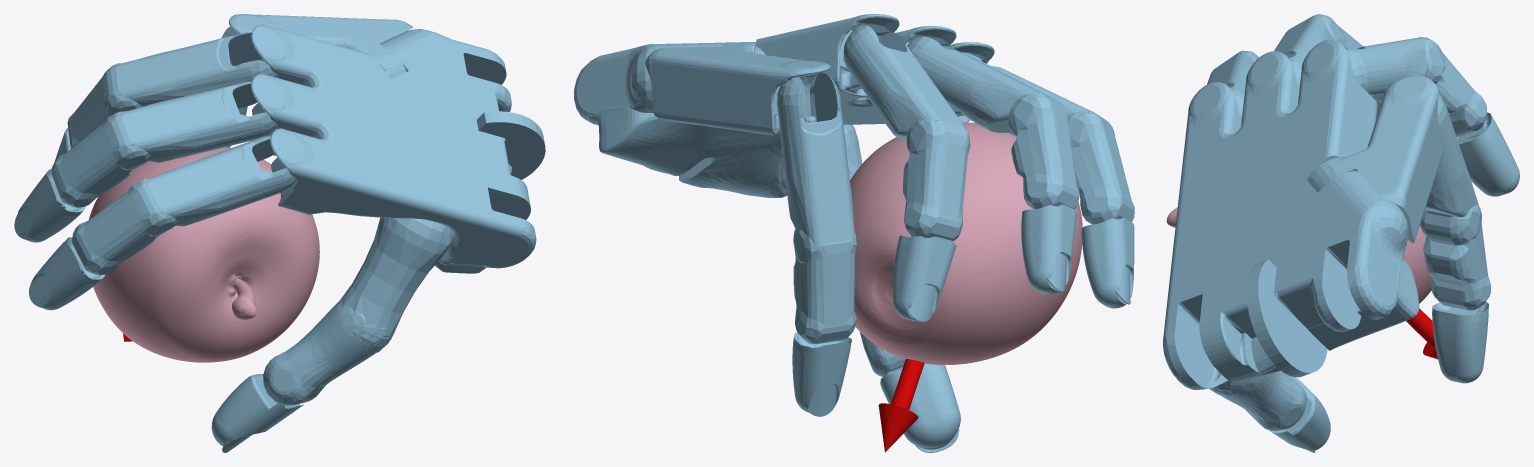
The picture shows the model from 3 angles, left to right: view 1: azimuth 30°, elevation 25°; view 2: azimuth 150°, elevation 25°; view 3: azimuth 270°, elevation 25°; orthographic projection. The views are drawn at different scales.
Visible parts, largest first — view 1: world, apple.stl; view 2: world, apple.stl; view 3: world, apple.stl.
Part boxes in pixels (x1=…): world: x1=14, y1=14, x2=545, y2=452; apple.stl: x1=89, y1=147, x2=319, y2=362; world: x1=574, y1=14, x2=1134, y2=452; apple.stl: x1=850, y1=122, x2=1082, y2=364; world: x1=1163, y1=14, x2=1519, y2=452; apple.stl: x1=1166, y1=207, x2=1431, y2=303.
Size of the model in its own units: 0.1921 by 0.1512 by 0.1137.
